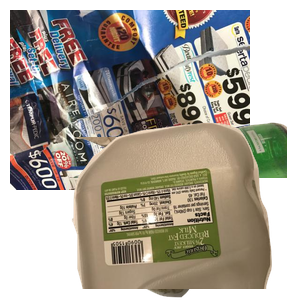glass: (60, 120, 300, 300)
paper: (10, 10, 250, 190)
plastic: (71, 120, 300, 300)
trash: (66, 137, 263, 300)
